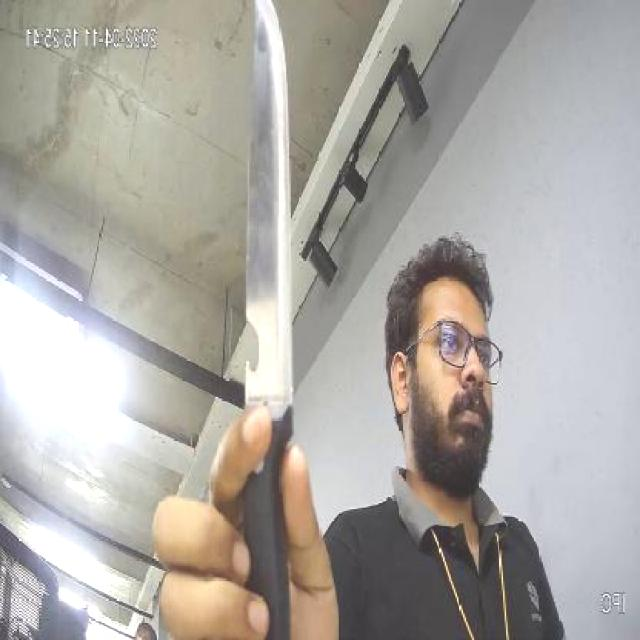knife: (212, 5, 303, 537)
